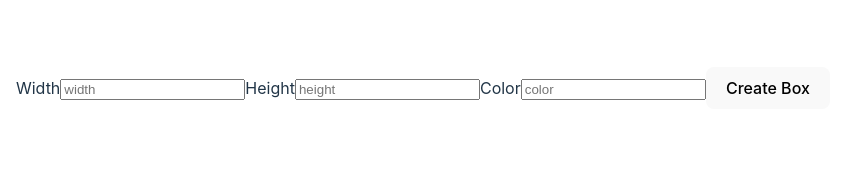
Test: Addes a box
The width and height of the screenshot is (847, 187).
Step 1. Type "100" into the field labelled "Width" → (153, 90), box [60,79,245,100]
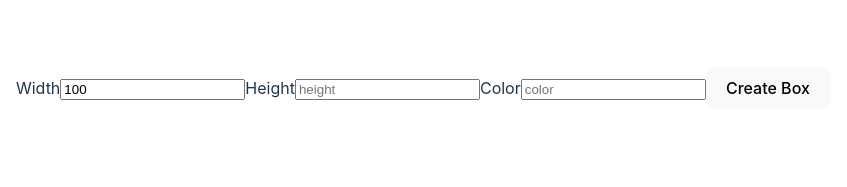
Step 2. Type "100" into the field labelled "Height" → (387, 90), box [295,79,480,100]
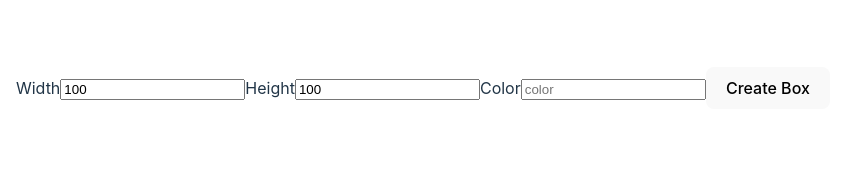
Step 3. Type "pink" into the field labelled "Color" → (613, 90), box [521,79,706,100]
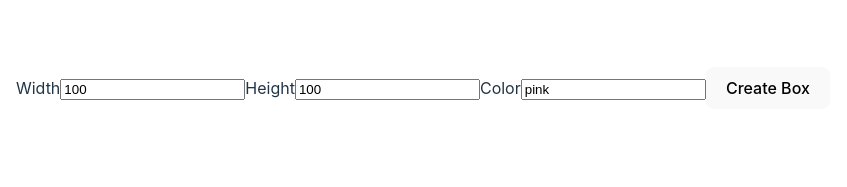
Step 4. Click the button "Create Box" → (768, 88), box [706,67,830,109]
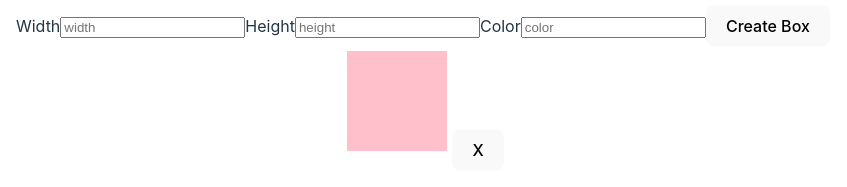
Now the button "X" is shown, box [452,130,504,171]
Now the field labelled "Width" is empty, box [60,17,245,38]
Now the field labelled "Height" is empty, box [295,17,480,38]
